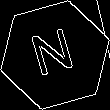N_S: (29, 25, 81, 85)
